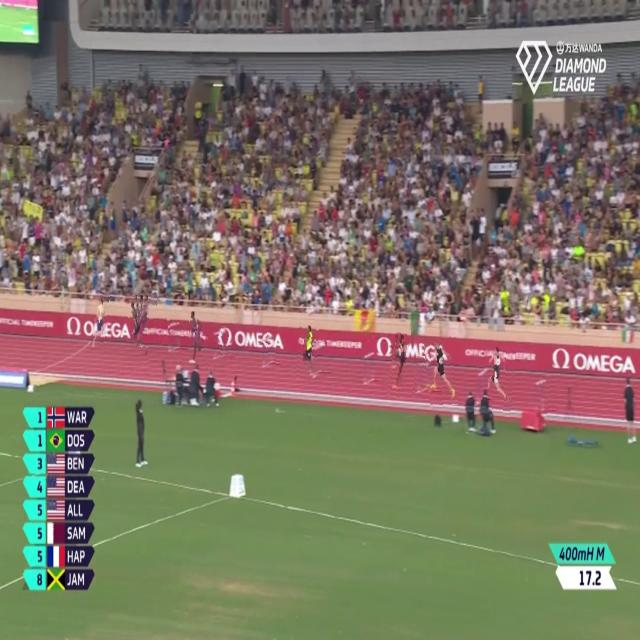athlete: (483, 342, 515, 412), (425, 336, 456, 406), (388, 329, 409, 399), (128, 295, 148, 368), (297, 323, 319, 380), (190, 308, 208, 370), (138, 293, 156, 348), (93, 292, 109, 353)
hurdle: (360, 347, 380, 385), (414, 357, 432, 399), (534, 374, 550, 417), (307, 342, 324, 382), (475, 367, 488, 415), (258, 333, 276, 367), (169, 316, 181, 364), (214, 326, 228, 365)
